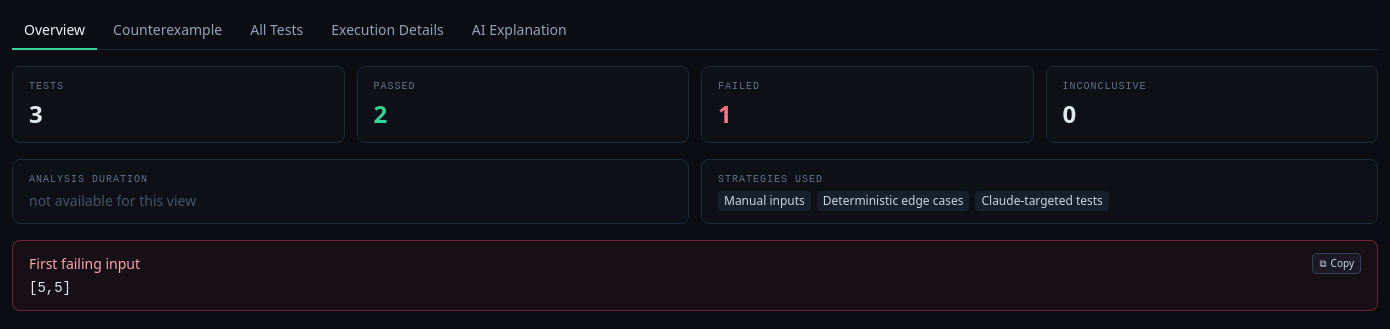
Test: ResultsView › filters the All Tests table by source
The width and height of the screenshot is (1390, 329).
Click the tab "All Tests". click: [277, 31]
box: top-left (238, 12), bottom-right (315, 50)
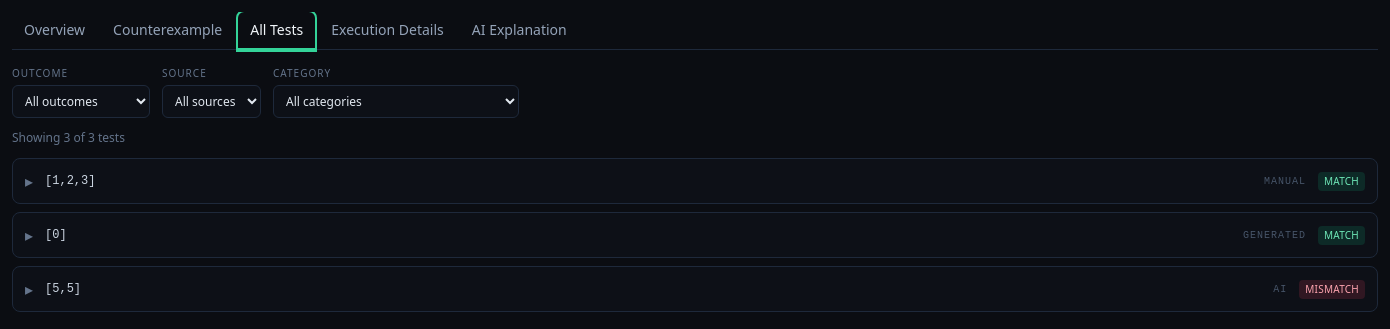
Select "ai" in the dropdown labelled "Source". click: [212, 102]
box: top-left (162, 85), bottom-right (261, 118)
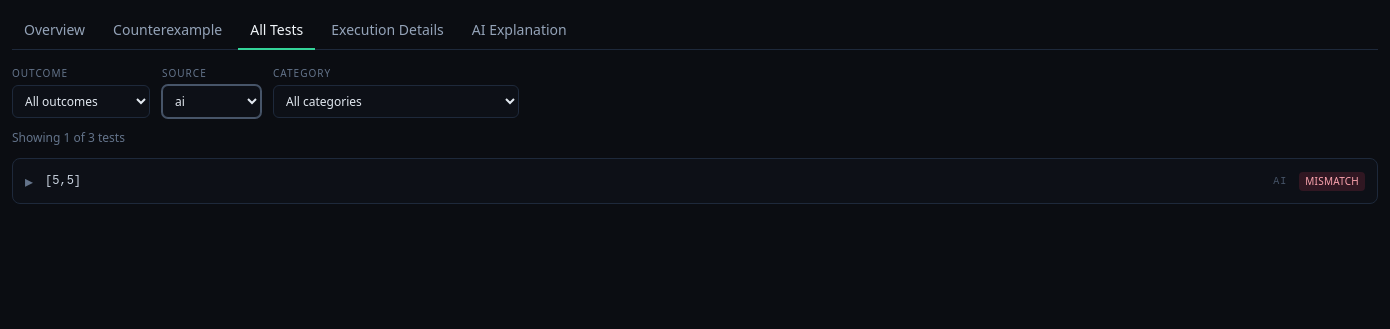
Expected: the text "Showing 1 of 3 tests" is shown, top-left (12, 129), bottom-right (125, 146)
